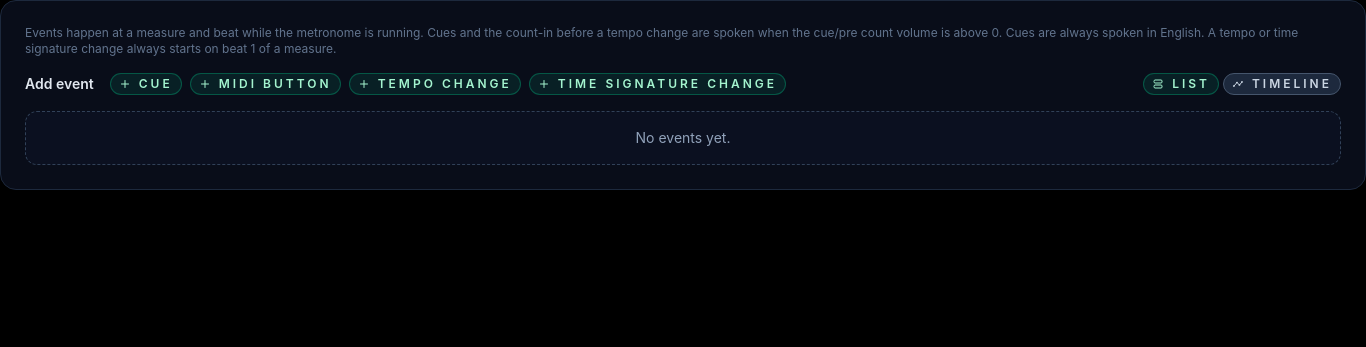
EventsTab › adds a tempo change on beat 1 of the second measure with the song tempo
This screenshot has width=1366, height=347.
Click the button with aria-label "Add tempo change" at [435, 84], box [349,73,521,95]
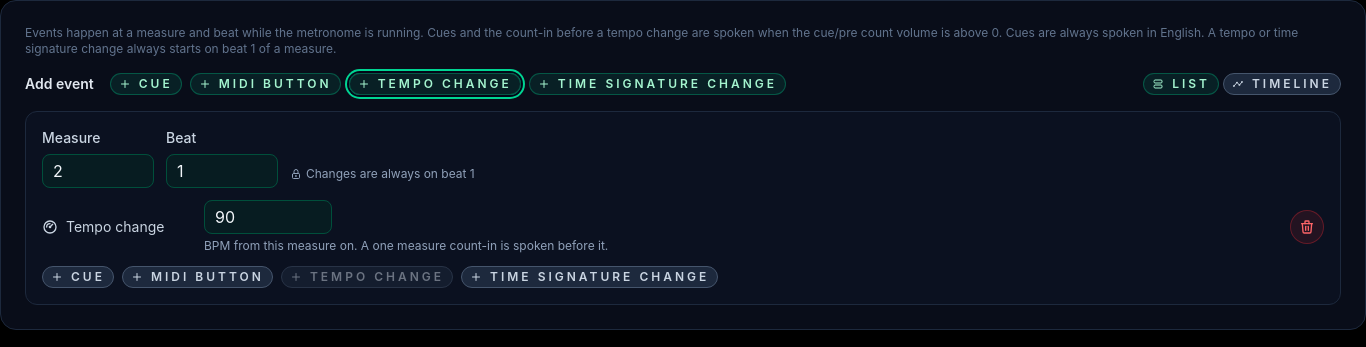
Now the number field named "Tempo (BPM)" holds "90", box [204,200,332,234]
Now the number field labelled "Beat" is disabled, box [166,154,278,188]
Now the text "Changes are always on beat 1" is shown, box [290,166,475,188]
